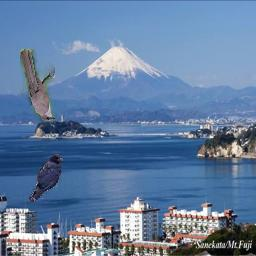Crow: (29, 154, 63, 202)
Cuckoo: (21, 49, 56, 121)
